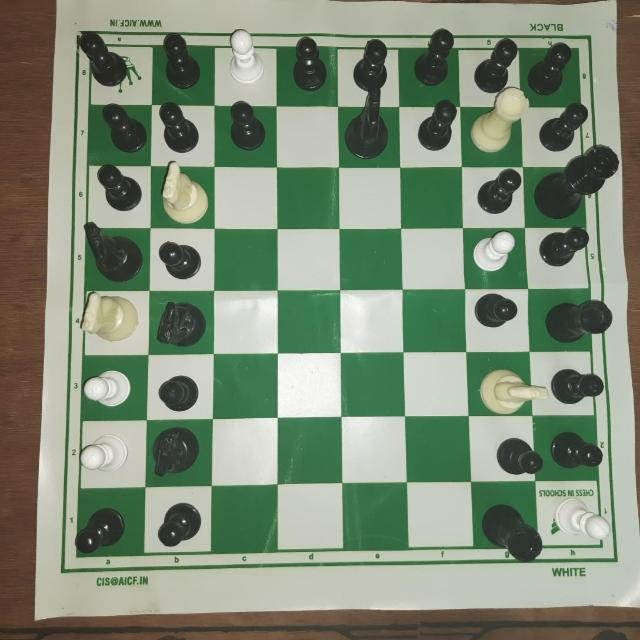black-knight: (81, 215, 141, 283), (144, 421, 205, 483), (147, 294, 209, 347)
black-pawn: (80, 30, 128, 92), (529, 37, 578, 97), (72, 505, 128, 557), (412, 23, 456, 89), (537, 98, 588, 152), (95, 100, 147, 152), (156, 97, 203, 152), (548, 427, 605, 472), (157, 29, 201, 87), (473, 35, 517, 93), (287, 31, 327, 93), (417, 96, 461, 151), (538, 224, 594, 267), (474, 170, 523, 219), (95, 161, 143, 211), (349, 34, 391, 91), (151, 370, 203, 416), (492, 434, 546, 478), (153, 501, 205, 546), (226, 96, 268, 151), (550, 366, 607, 406), (153, 234, 202, 280), (469, 288, 520, 330)
black-queen: (530, 142, 622, 219)
black-rook: (477, 499, 542, 564), (542, 295, 612, 346)
white-knight: (472, 364, 549, 416), (338, 89, 393, 160), (157, 158, 211, 226), (76, 289, 139, 347)
white-pawn: (550, 491, 615, 546), (465, 225, 520, 277), (80, 365, 138, 413), (74, 428, 132, 476), (226, 23, 268, 88)
white-rook: (468, 88, 532, 156)
